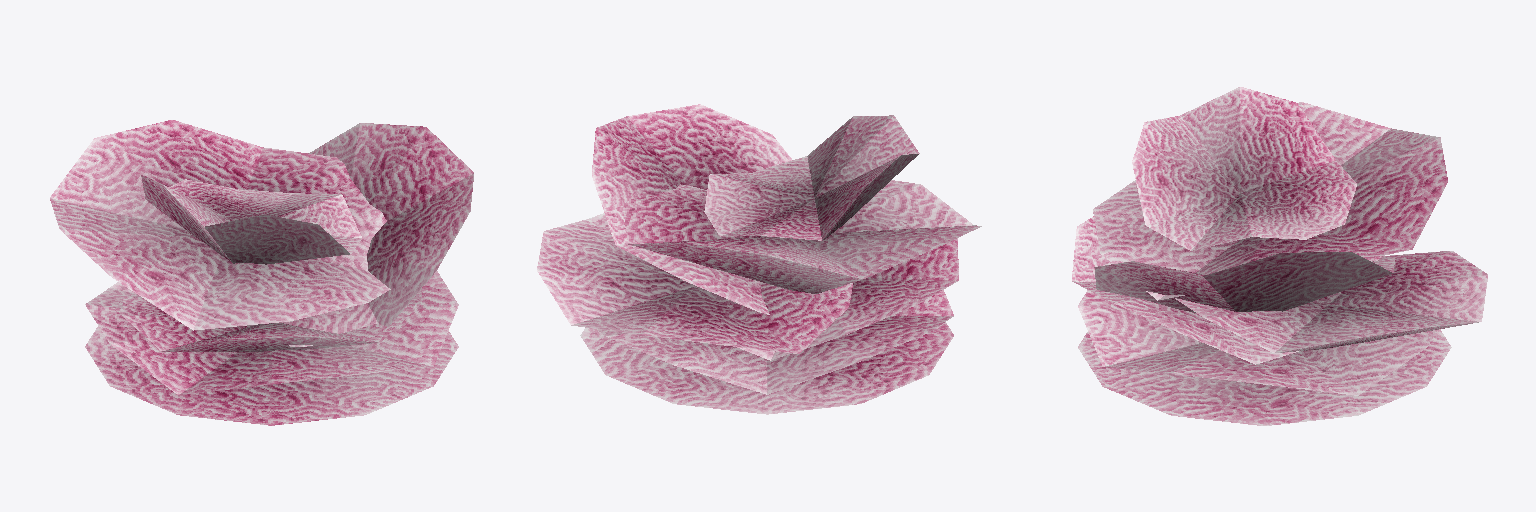
3 renders of one model, left to right at view 1: azimuth 30°, elevation 25°; view 2: azimuth 150°, elevation 25°; view 3: azimuth 270°, elevation 25°, orthographic.
Visible parts, largest first — view 1: Circle.006_Circle.007, Circle_Circle.001; view 2: Circle.006_Circle.007, Circle_Circle.001; view 3: Circle.006_Circle.007, Circle_Circle.001.
Boxes of the visible parts, x1=… form: Circle.006_Circle.007: x1=50, y1=120, x2=473, y2=395; Circle_Circle.001: x1=85, y1=326, x2=458, y2=425; Circle.006_Circle.007: x1=537, y1=104, x2=981, y2=394; Circle_Circle.001: x1=580, y1=322, x2=953, y2=414; Circle.006_Circle.007: x1=1072, y1=87, x2=1487, y2=395; Circle_Circle.001: x1=1078, y1=329, x2=1451, y2=425.
Size of the model in its own units: 2.29 by 1.35 by 2.23.
7 materials, 1 textured.